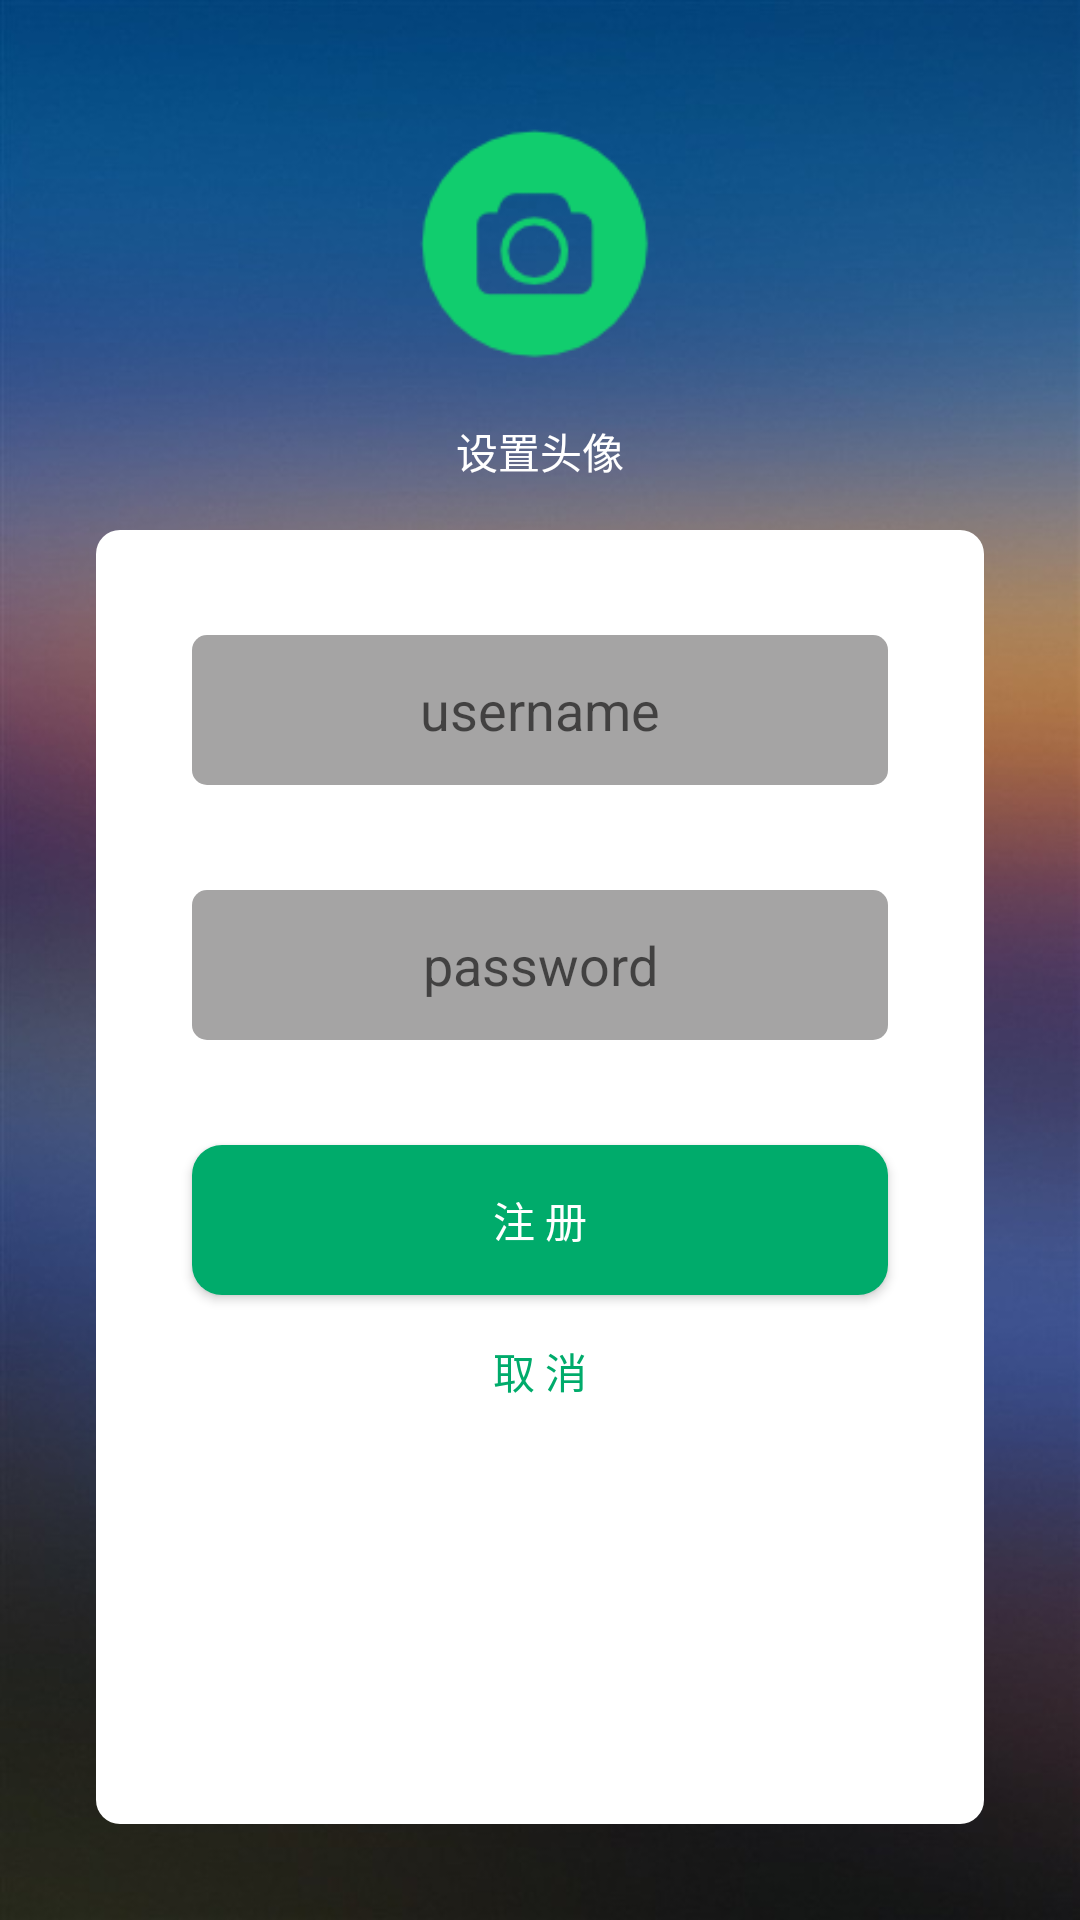

Point at icon controls on the screen. Image size 1080w x 1920h, points as [x,y].
camera: [540,240]
